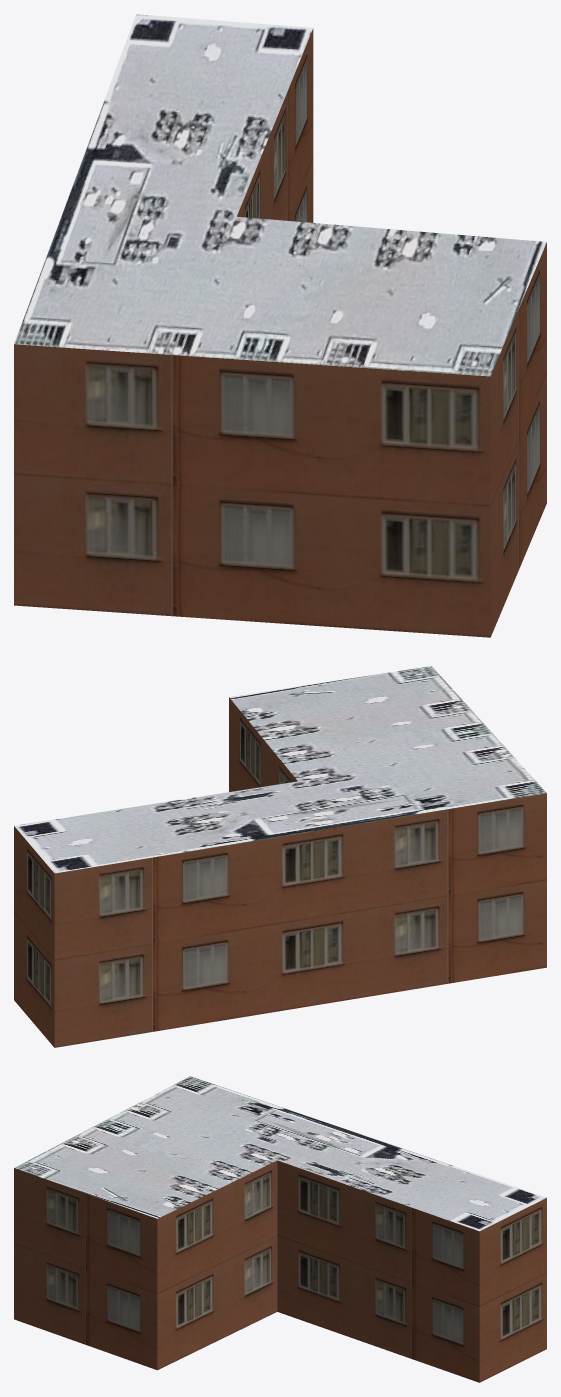
File: ResTex__2145.fbx
3 renders of one model, top to bottom at view 1: azimuth 30°, elevation 25°; view 2: azimuth 150°, elevation 25°; view 3: azimuth 270°, elevation 25°, orthographic. The views are drawn at different scales.
Visible parts, largest first — view 1: CityEngineMaterial_20_m, CityEngineMaterial_8_m; view 2: CityEngineMaterial_20_m, CityEngineMaterial_8_m; view 3: CityEngineMaterial_20_m, CityEngineMaterial_8_m.
Part boxes in pixels (<box>): CityEngineMaterial_20_m: <box>14,28,546,637</box>; CityEngineMaterial_8_m: <box>14,14,546,376</box>; CityEngineMaterial_20_m: <box>14,697,546,1047</box>; CityEngineMaterial_8_m: <box>14,666,546,873</box>; CityEngineMaterial_20_m: <box>14,1160,546,1382</box>; CityEngineMaterial_8_m: <box>14,1076,546,1231</box>.
Size of the model in its own units: 13.19 by 6 by 19.14.
2 materials, 2 textured.
